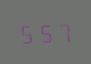five: (18, 20, 35, 44), (37, 20, 54, 43)
seven: (55, 19, 72, 43)
